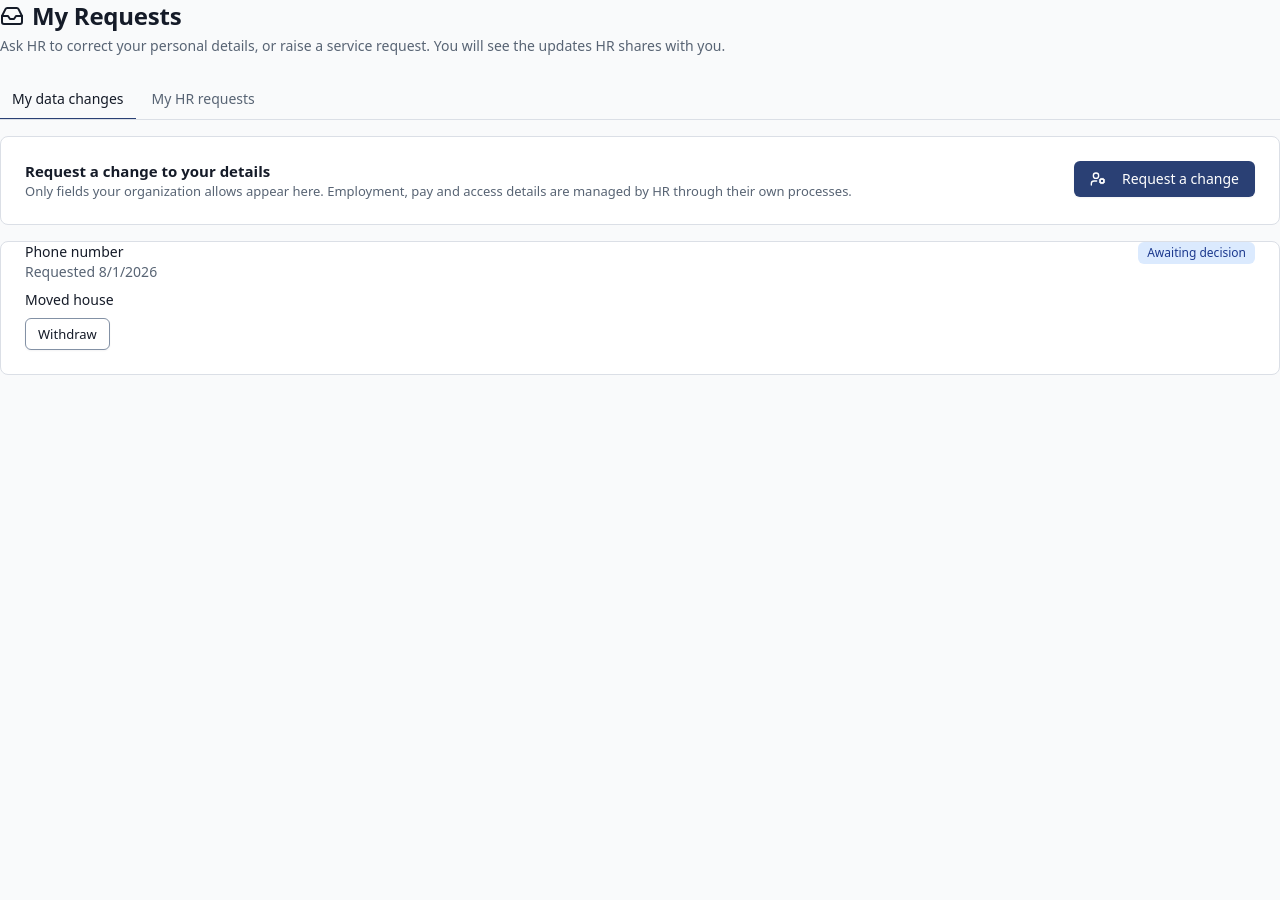
My Requests (ESS) › shows the employee their own requests and lets them withdraw a pending one after confirming
Expected: the element with test id "card-my-data-change-3" is shown, [0, 241, 1279, 375]
Expected: the text "Awaiting decision" is shown, [1138, 242, 1255, 264]
Click the button with test id "button-withdraw-data-change-3" at (67, 334), box [25, 318, 110, 350]
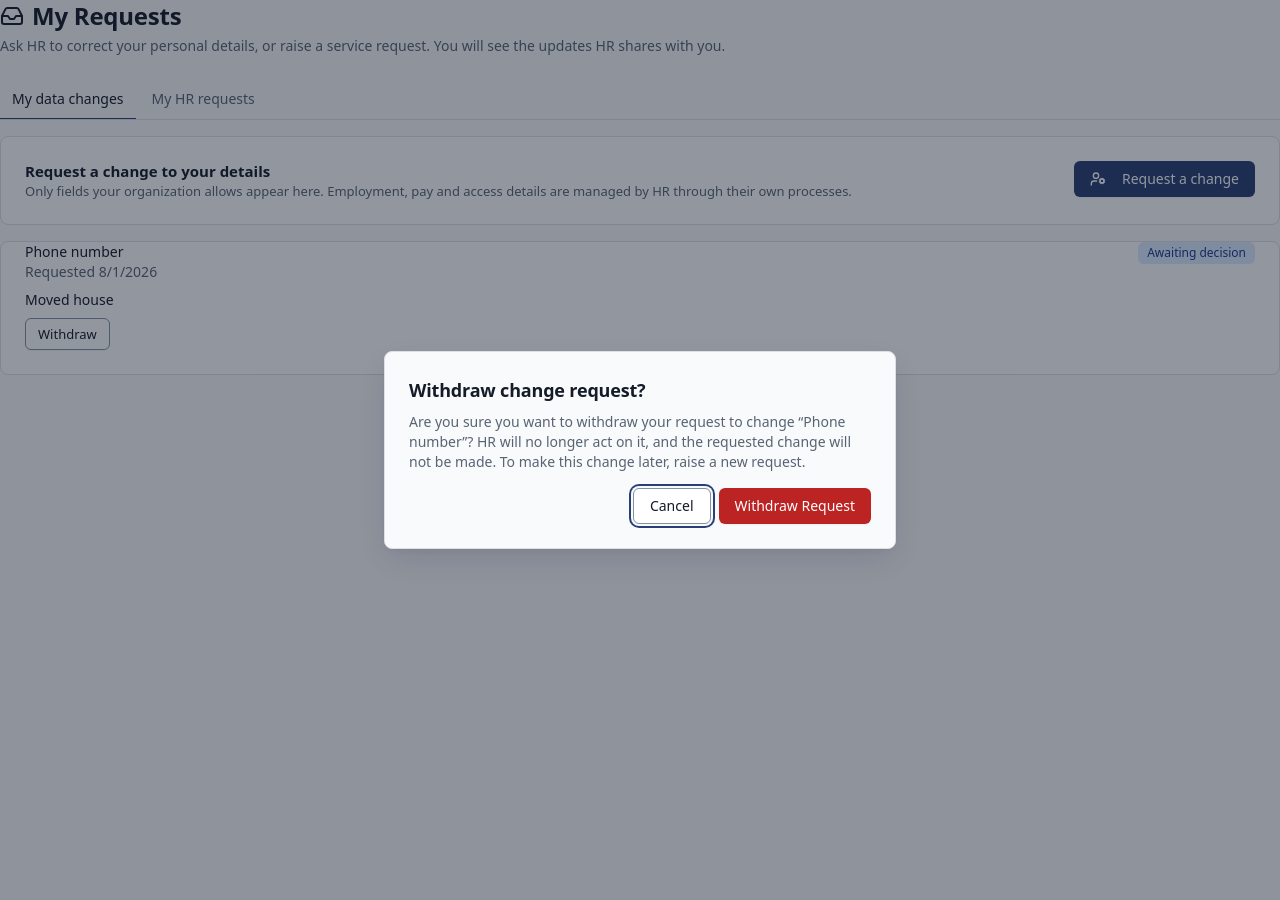
Now the dialog with test id "dialog-withdraw-data-change" is shown, box [384, 351, 896, 549]
Now the text "withdraw your request to change “Phone number”" is shown, box [409, 412, 871, 472]
Click the button with test id "dialog-withdraw-data-change-confirm" at (795, 506), box [718, 488, 871, 524]
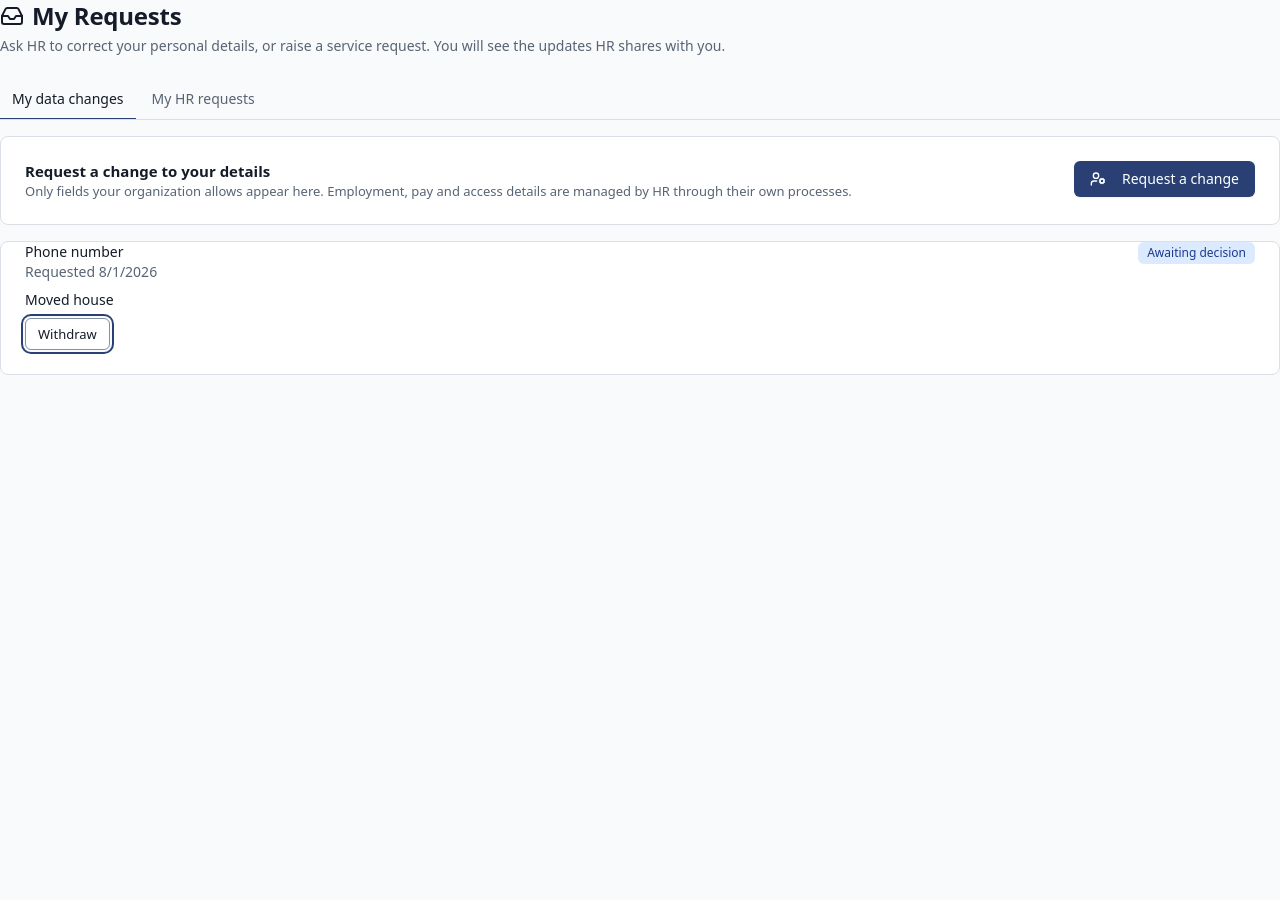
Now the dialog with test id "dialog-withdraw-data-change" is gone
